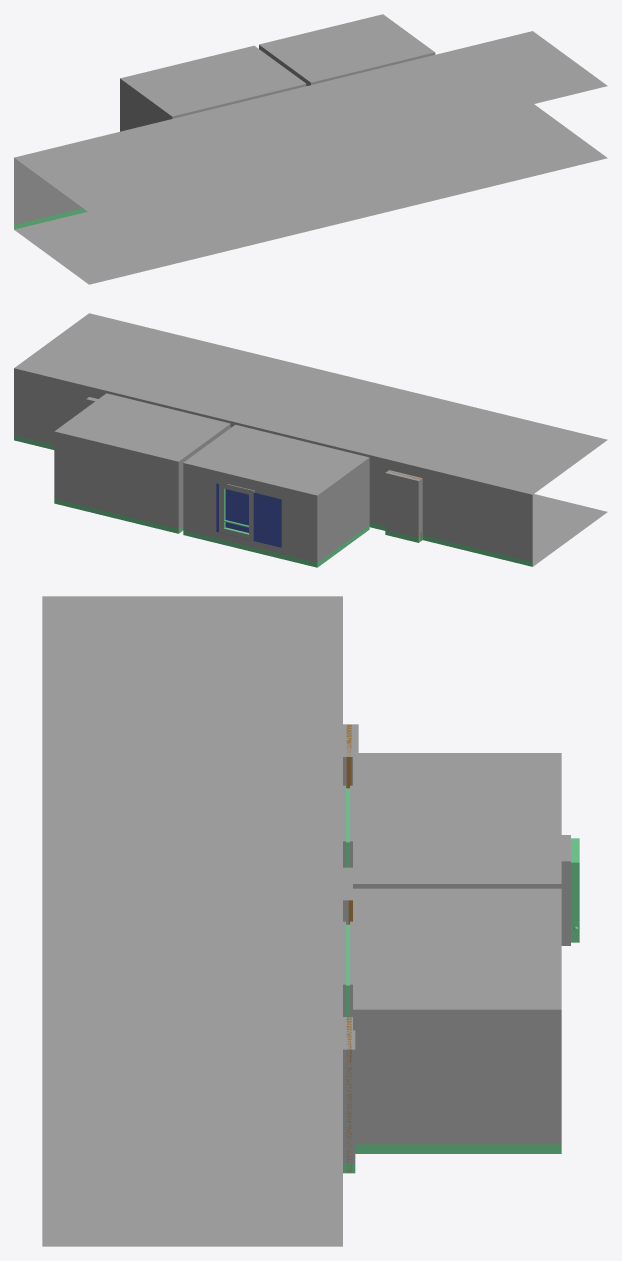
Rendered from Couloir.fbx.
3 views of the same model, one above another, from view 1: azimuth 30°, elevation 25°; view 2: azimuth 150°, elevation 25°; view 3: azimuth 270°, elevation 25° (orthographic). The views are drawn at different scales.
Visible parts, largest first — view 1: Couloir; view 2: Couloir; view 3: Couloir.
Part boxes in pixels (x1,y1,x2,y2): Couloir: (14, 14, 607, 284); Couloir: (14, 313, 607, 567); Couloir: (42, 596, 579, 1246).
Size of the model in its own units: 315 by 142 by 41.92.
